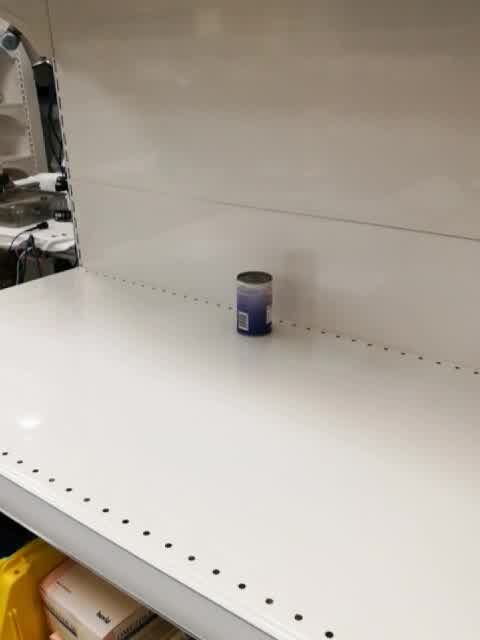sardine: (235, 269, 274, 338)
